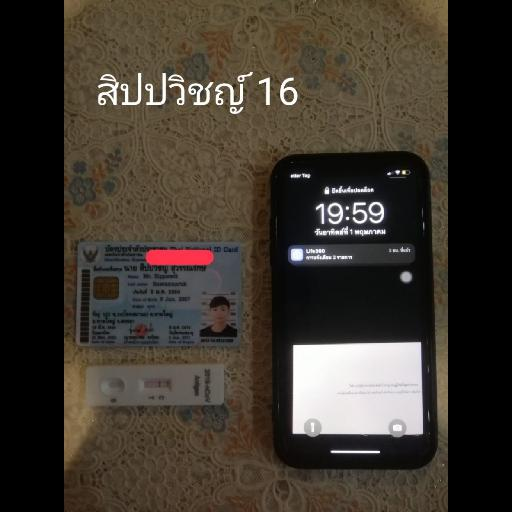Neg: (88, 364, 224, 404)
